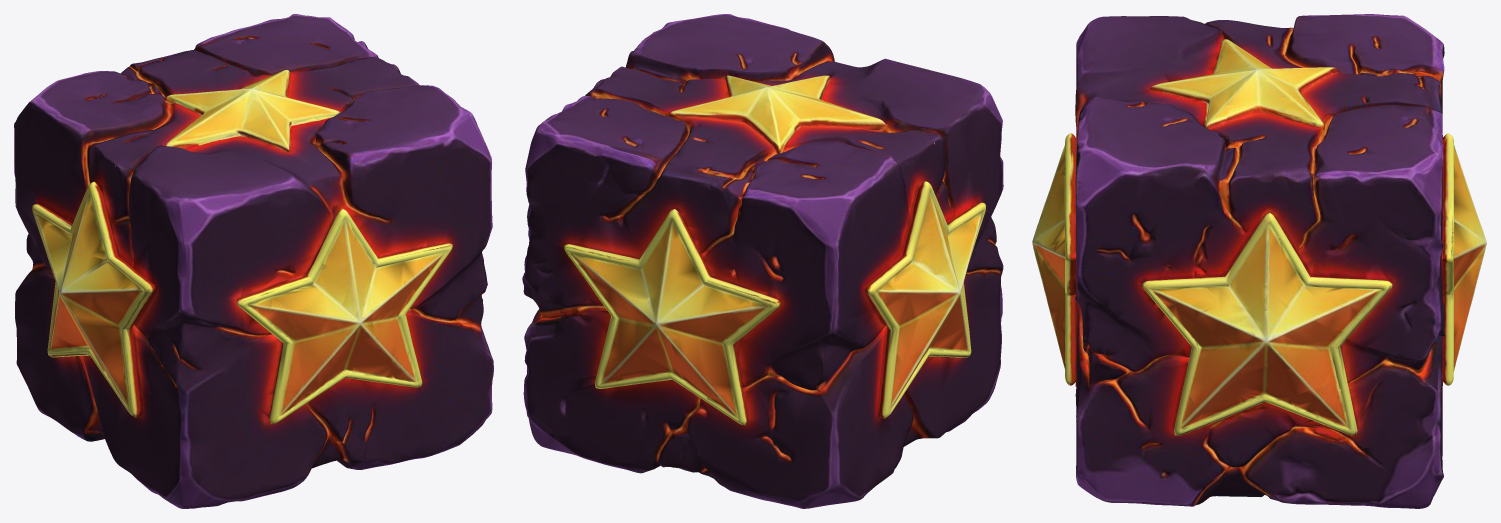
File: earth.glb
3 renders of one model, left to right at view 1: azimuth 30°, elevation 25°; view 2: azimuth 150°, elevation 25°; view 3: azimuth 270°, elevation 25°, orthographic. The views are drawn at different scales.
Visible parts, largest first — view 1: tripo_node_7908b40a-325c-4c0b-b43c-76ec0a959f06; view 2: tripo_node_7908b40a-325c-4c0b-b43c-76ec0a959f06; view 3: tripo_node_7908b40a-325c-4c0b-b43c-76ec0a959f06.
Boxes of the visible parts, x1,y1,x2,y2 form: tripo_node_7908b40a-325c-4c0b-b43c-76ec0a959f06: [14, 14, 493, 508]; tripo_node_7908b40a-325c-4c0b-b43c-76ec0a959f06: [522, 14, 1003, 508]; tripo_node_7908b40a-325c-4c0b-b43c-76ec0a959f06: [1032, 14, 1486, 508].
Bounding box in the file's own units: 0.981 × 0.834 × 0.9223.
1 material, 1 textured.
